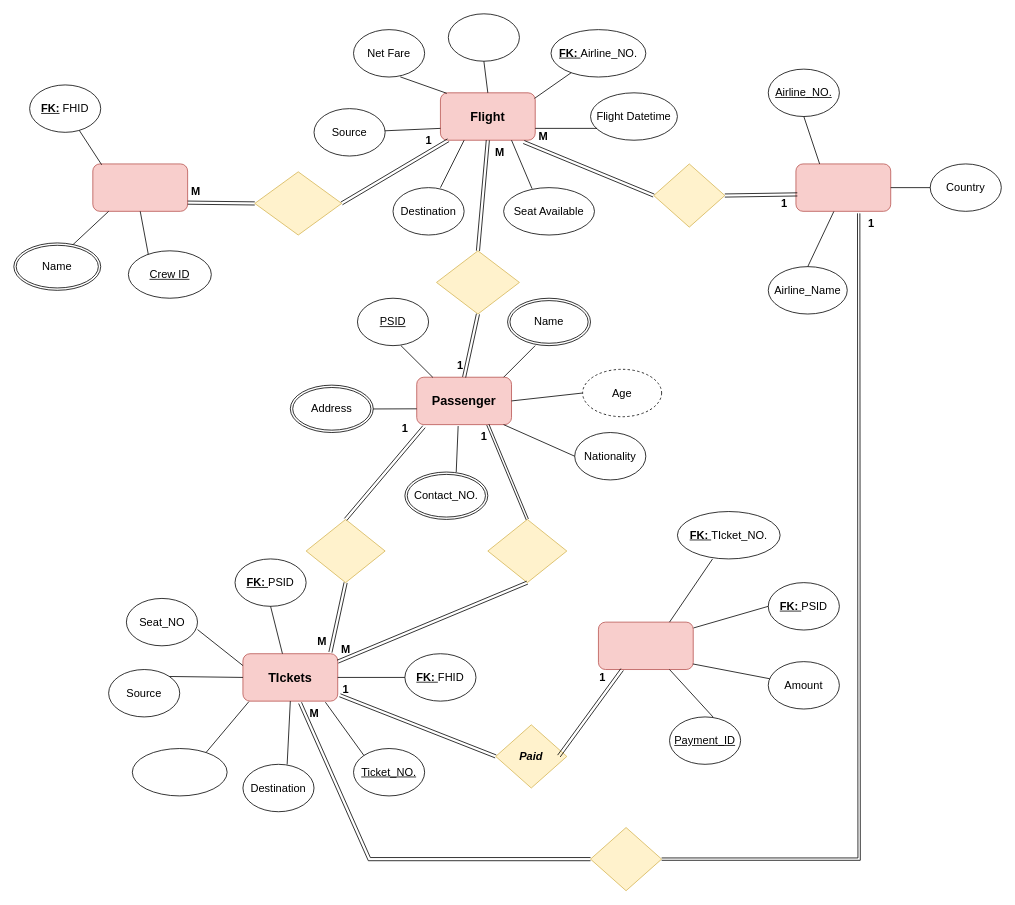
Some shapes in this 1015 by 905 pixel diagram are drawn without their labels. The shapes that lost their labels are listed below. From the top down, each one's box as (x1, y1, x2, y2) in pixels, then its label:
(448, 13, 519, 61): FHID
(92, 163, 188, 211): Crew
(254, 171, 342, 235): Allocated for
(653, 163, 725, 227): Schedules
(795, 163, 891, 211): Airline
(436, 250, 519, 314): Browse for
(305, 519, 385, 583): Reserves
(487, 519, 567, 583): Cancels
(598, 621, 693, 670): Payment
(132, 748, 227, 796): FK: Airline_NO
(590, 827, 662, 891): Sells
